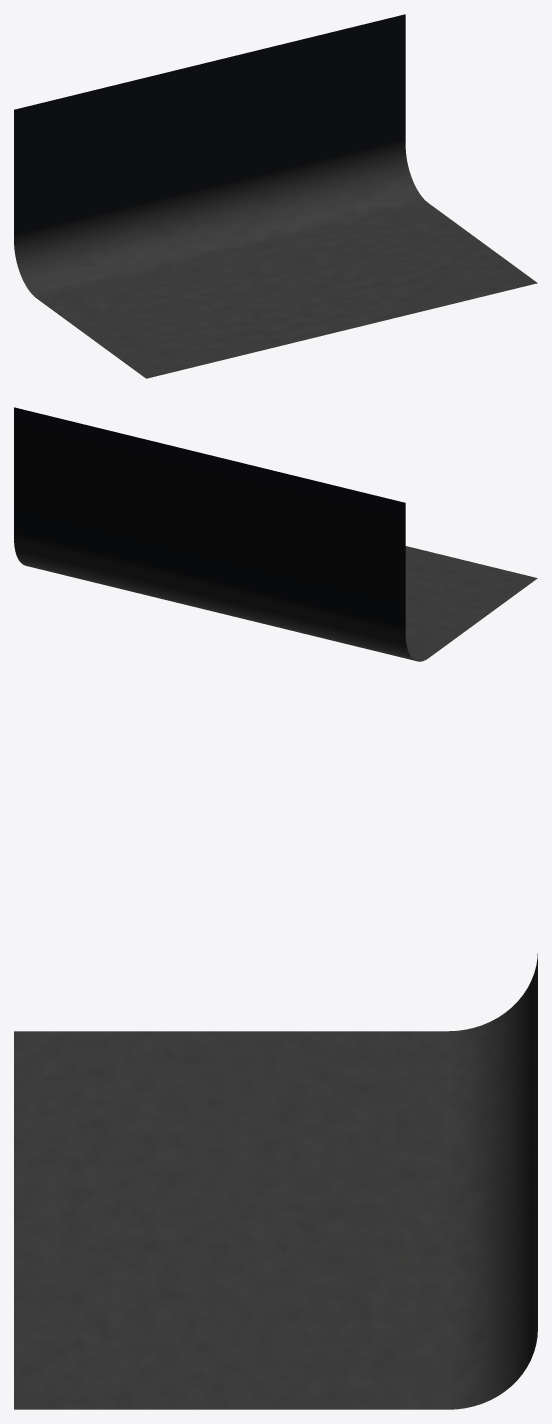
File: studio-scene.glb
3 views of the same model, one above another, from view 1: azimuth 30°, elevation 25°; view 2: azimuth 150°, elevation 25°; view 3: azimuth 270°, elevation 25° (orthographic). The views are drawn at different scales.
Visible parts, largest first — view 1: STUDIO_Cyclorama; view 2: STUDIO_Cyclorama; view 3: STUDIO_Cyclorama.
Boxes of the visible parts, x1=… form: STUDIO_Cyclorama: x1=14, y1=14, x2=537, y2=378; STUDIO_Cyclorama: x1=14, y1=407, x2=537, y2=661; STUDIO_Cyclorama: x1=14, y1=953, x2=537, y2=1409.
Bounding box in the file's own units: 10 × 4.2 × 5.85.
Materials: 1 (1 with a texture image).
